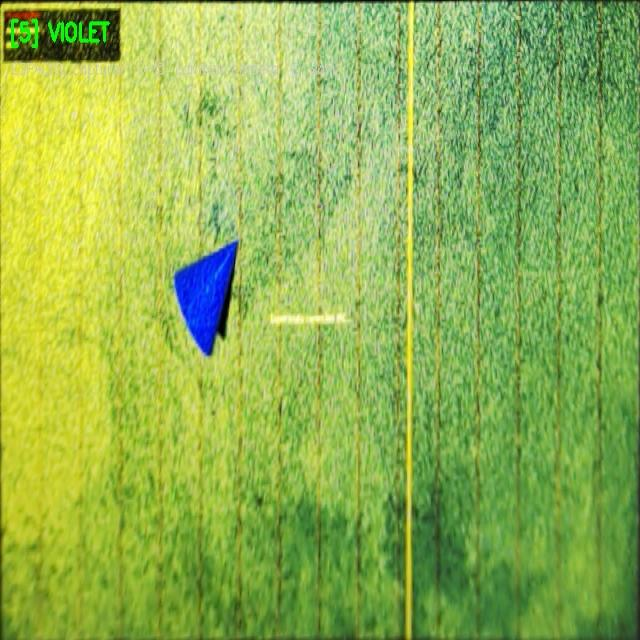violet: (175, 240, 238, 355)
